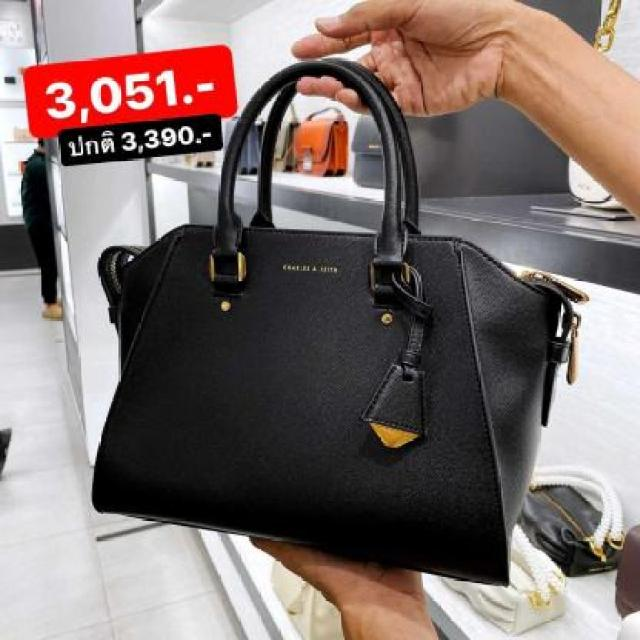Bag: (68, 49, 580, 609)
